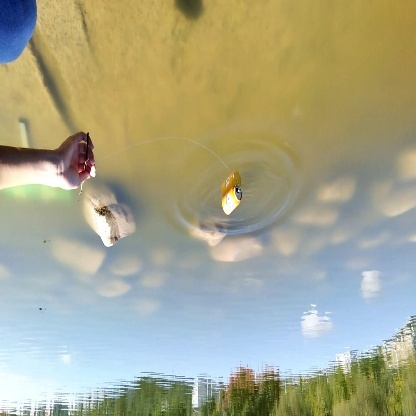bottle: (218, 187, 248, 216)
